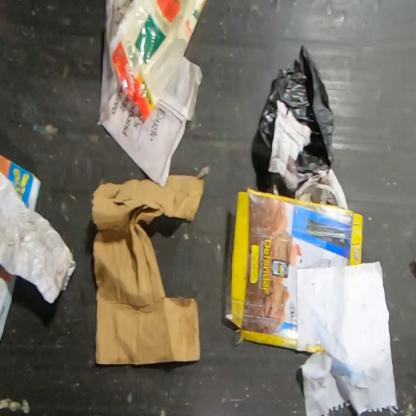cardboard: (90, 164, 210, 366), (223, 186, 364, 354)
rigid_plastic: (258, 44, 336, 173)
soft_plastic: (108, 0, 209, 124)
